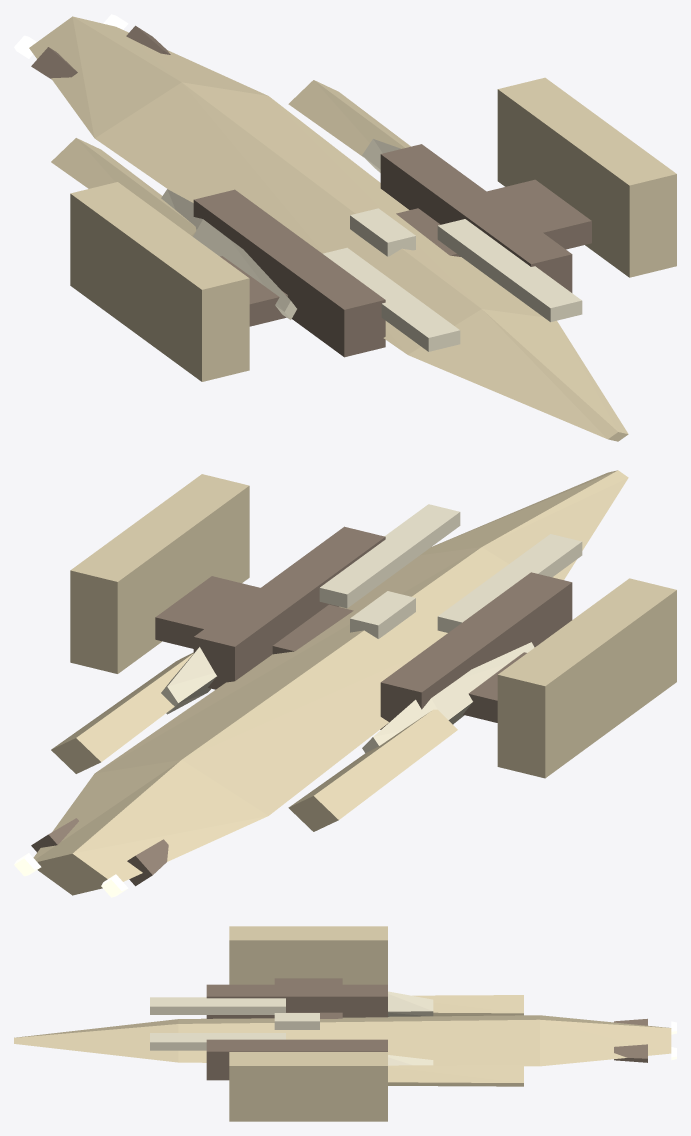
3 renders of one model, top to bottom at view 1: azimuth 30°, elevation 25°; view 2: azimuth 150°, elevation 25°; view 3: azimuth 270°, elevation 25°, orthographic. The views are drawn at different scales.
Bounding box in the file's own units: 6.12 × 1.34 × 12.29.
